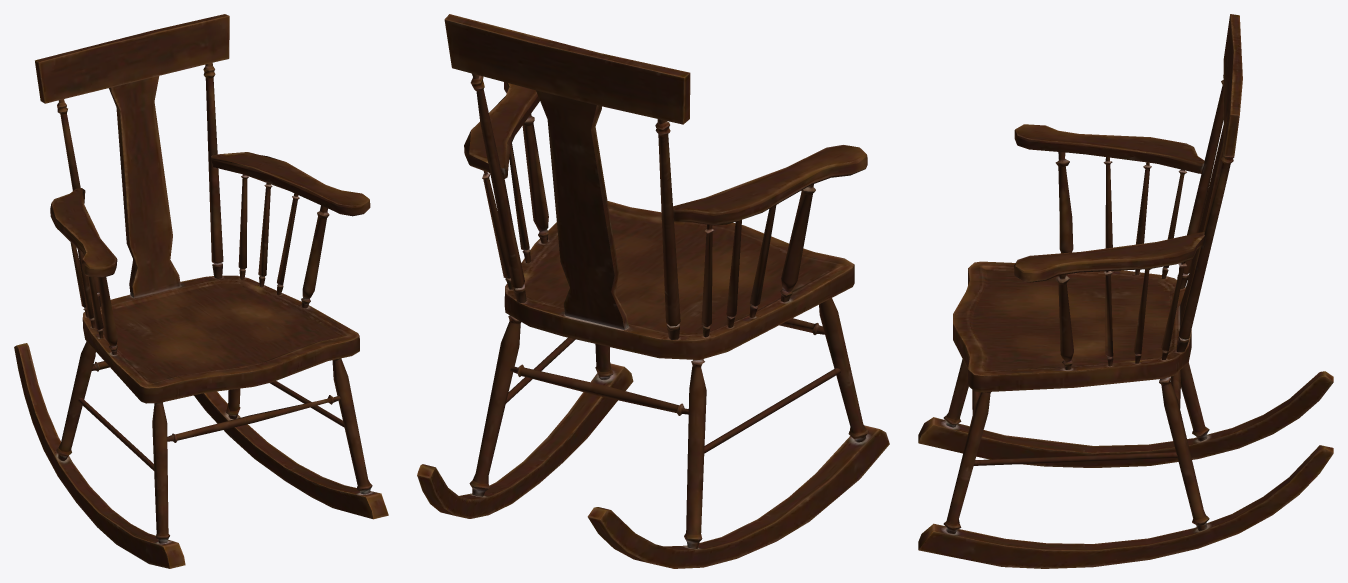
The model's file is rocker.glb.
The picture shows the model from 3 angles, left to right: view 1: azimuth 30°, elevation 25°; view 2: azimuth 150°, elevation 25°; view 3: azimuth 270°, elevation 25°; orthographic projection. The views are drawn at different scales.
Parts seen in each view (by area): view 1: Rockingchair_01; view 2: Rockingchair_01; view 3: Rockingchair_01.
Part boxes in pixels (x1,y1,x2,y2): Rockingchair_01: (14,14,388,568); Rockingchair_01: (417,14,889,568); Rockingchair_01: (918,14,1333,568).
Bounding box in the file's own units: 0.7081 × 0.9949 × 0.8335.
Materials: 1 (1 with a texture image).
